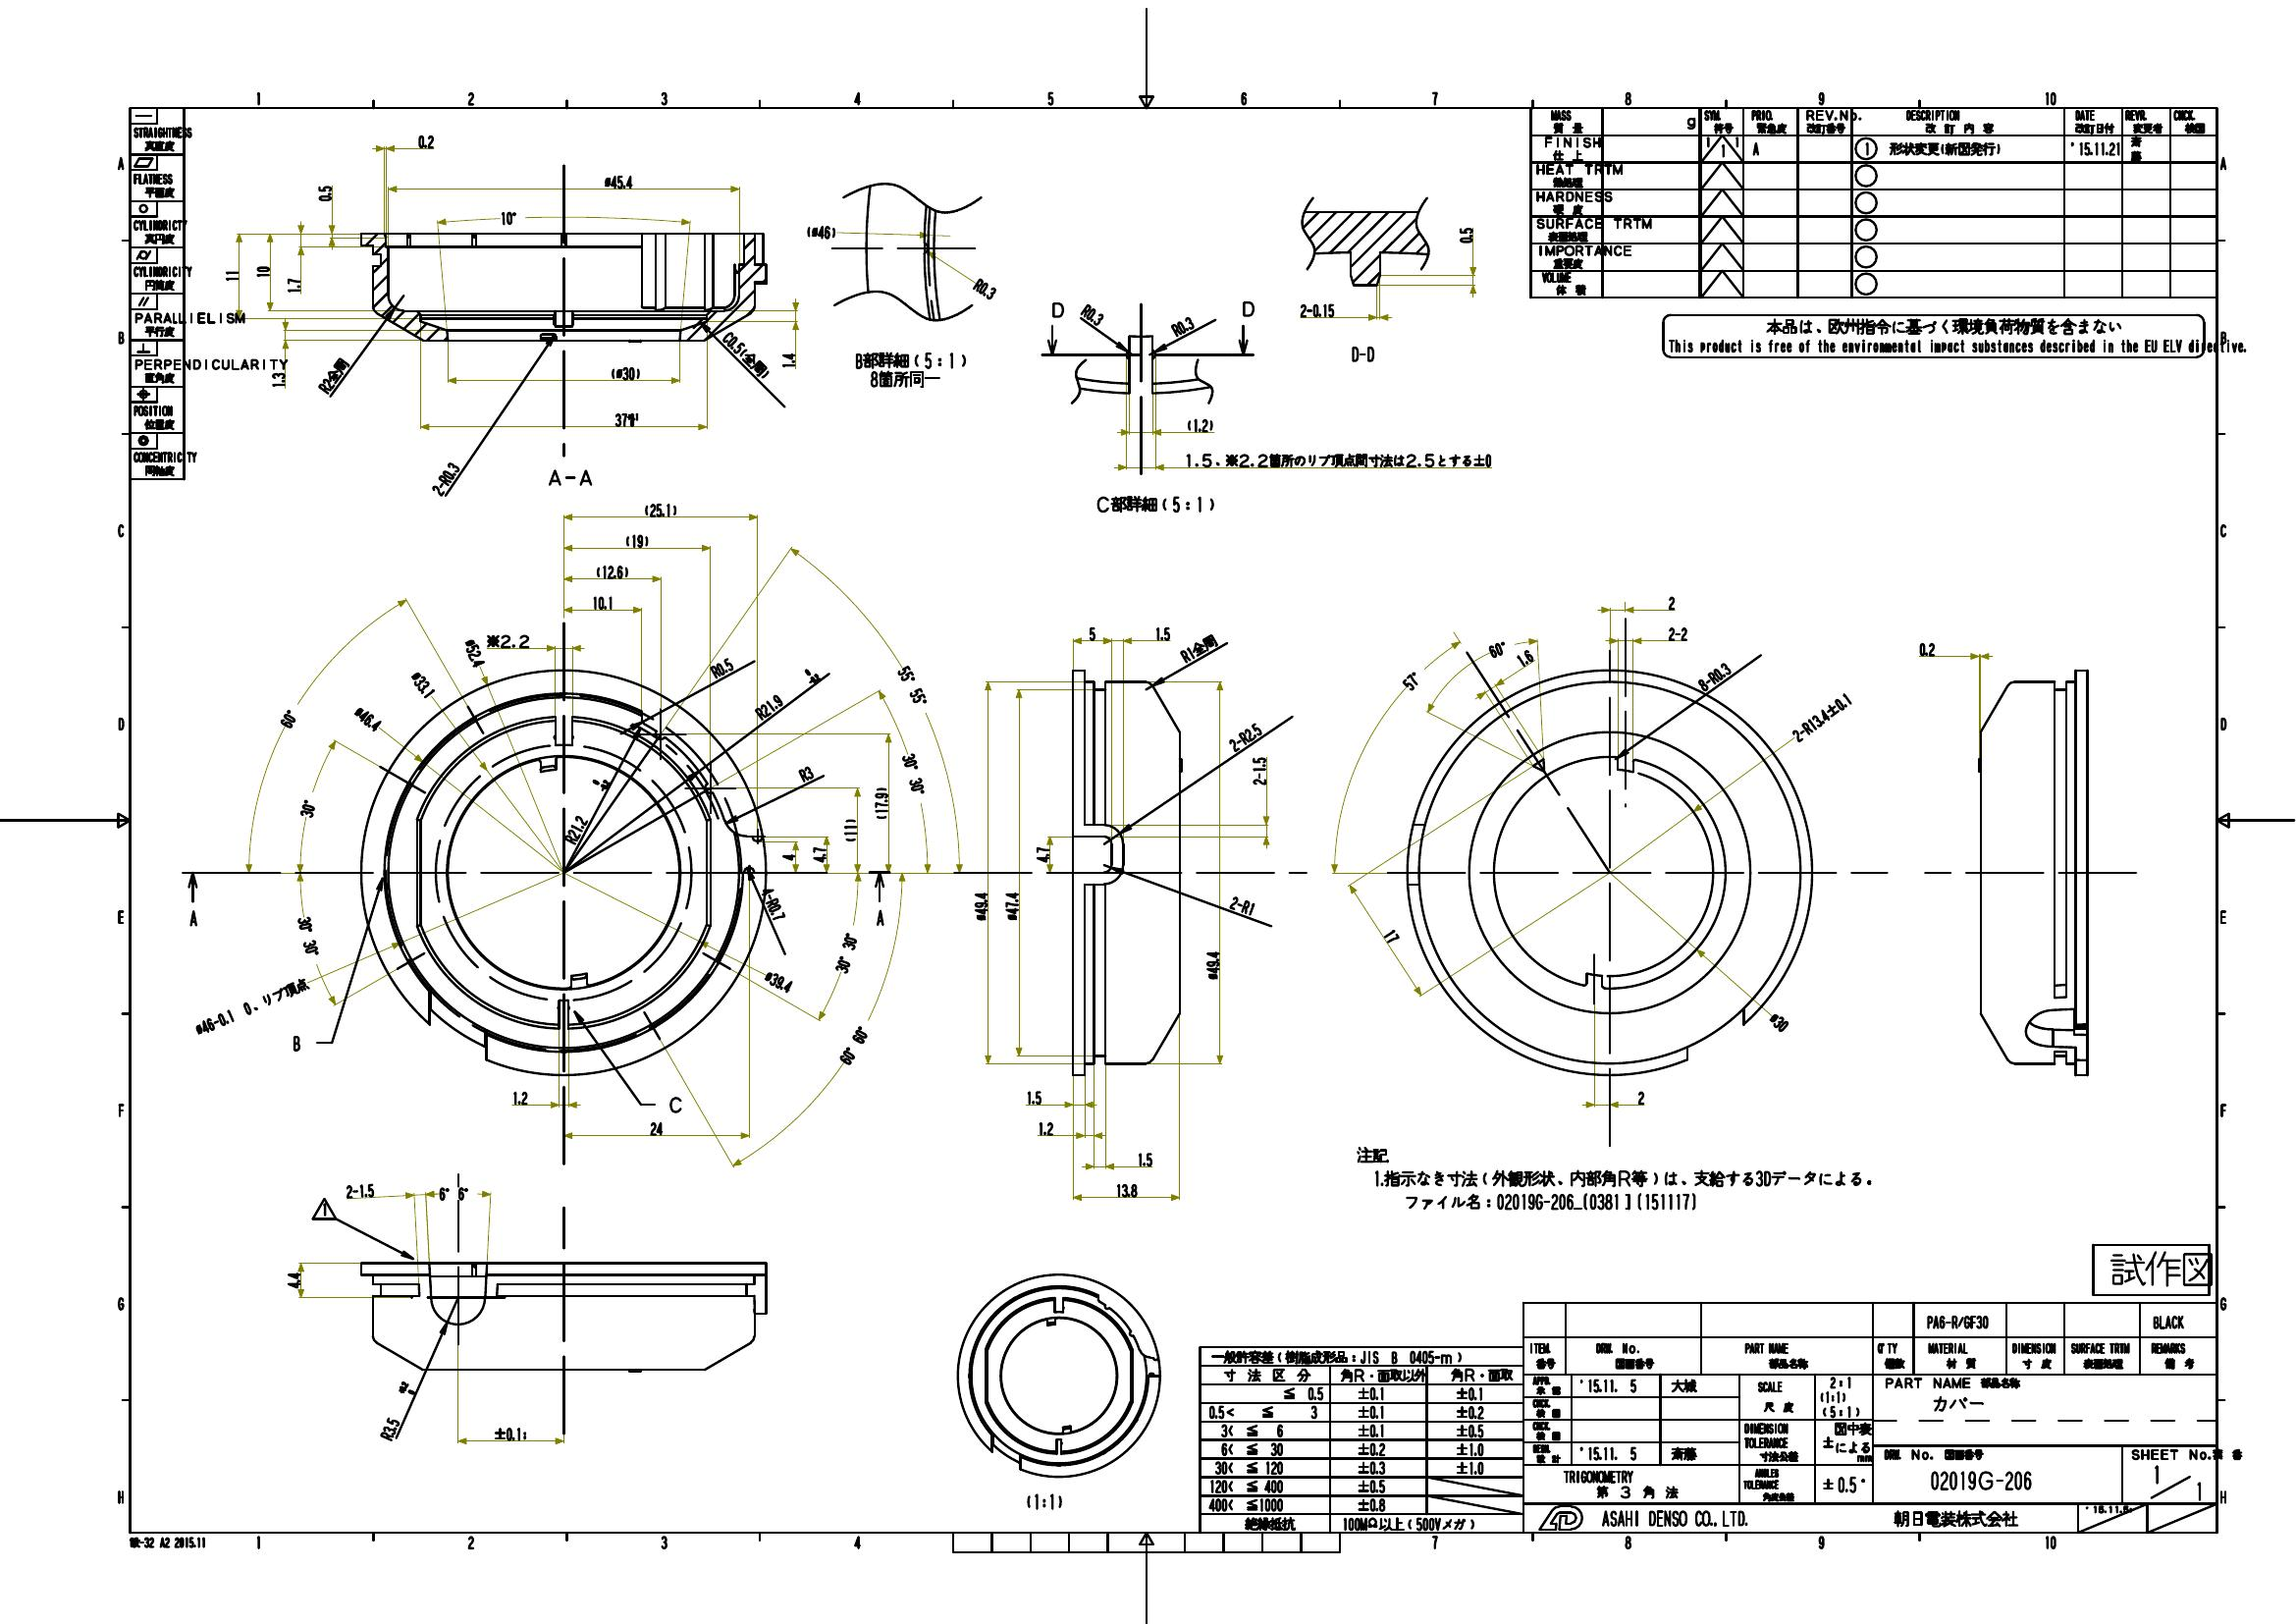anntotation_text: (1354, 1142, 1878, 1216), (1662, 315, 2205, 357), (2092, 1243, 2208, 1294), (854, 346, 971, 392), (1089, 490, 1221, 517), (1021, 1489, 1072, 1512), (541, 468, 601, 487), (128, 1534, 206, 1547), (262, 981, 311, 1000), (1346, 341, 1377, 360), (736, 355, 773, 371), (311, 1199, 337, 1220), (662, 1095, 687, 1114), (1047, 295, 1065, 322), (323, 362, 351, 378), (1238, 299, 1260, 320), (1191, 636, 1217, 652), (186, 909, 204, 928), (873, 909, 887, 932), (290, 1033, 302, 1049)
dimension_text: (1182, 448, 1493, 468), (748, 684, 826, 700), (1785, 710, 1860, 726), (193, 1011, 255, 1028), (388, 1380, 404, 1443), (903, 750, 922, 800), (905, 666, 922, 707), (840, 932, 856, 975), (834, 1037, 877, 1053), (483, 634, 529, 649), (871, 784, 887, 823), (1001, 889, 1019, 923), (1693, 668, 1734, 682), (1224, 731, 1265, 745), (300, 916, 314, 956), (596, 562, 631, 578), (645, 501, 680, 517), (344, 1183, 379, 1199), (766, 888, 782, 923), (1300, 302, 1339, 316), (805, 223, 838, 239), (351, 710, 383, 726), (971, 891, 987, 923), (764, 974, 796, 990), (492, 1427, 527, 1441), (1253, 754, 1267, 789), (427, 471, 466, 483), (604, 172, 634, 188), (1186, 417, 1214, 432), (610, 366, 641, 380), (437, 1186, 469, 1200), (1228, 898, 1256, 914), (1205, 949, 1219, 981), (624, 531, 648, 548), (1116, 1181, 1140, 1199), (708, 659, 734, 675), (841, 817, 857, 844), (1667, 622, 1688, 642), (283, 274, 300, 297), (1404, 668, 1421, 691), (466, 638, 480, 666), (415, 671, 429, 698), (1079, 308, 1105, 322), (613, 411, 639, 425), (973, 281, 996, 297), (1172, 320, 1196, 334), (720, 334, 745, 348), (1456, 225, 1474, 244), (253, 262, 271, 281), (1488, 638, 1505, 657), (509, 1088, 529, 1106), (1033, 844, 1049, 865), (499, 207, 516, 225), (1137, 1149, 1154, 1167), (221, 267, 241, 283), (415, 132, 434, 148), (1769, 1014, 1788, 1030), (1036, 1120, 1056, 1135), (796, 766, 815, 782), (590, 596, 615, 608), (1024, 1090, 1045, 1104), (299, 800, 316, 816), (316, 185, 332, 202), (1918, 642, 1936, 657), (1383, 928, 1400, 944), (1154, 626, 1172, 642), (646, 1120, 664, 1135), (782, 348, 796, 367), (318, 378, 332, 395), (271, 371, 285, 388), (1660, 596, 1678, 610), (1516, 650, 1534, 664), (812, 844, 826, 861), (286, 1271, 299, 1290), (281, 712, 297, 726), (1084, 626, 1098, 642), (1634, 1090, 1648, 1104), (782, 851, 794, 861)
object: (1407, 668, 1813, 1074), (362, 671, 766, 1074), (1978, 668, 2089, 1077), (1072, 670, 1180, 1076), (360, 1262, 766, 1371), (362, 232, 766, 341), (954, 1274, 1159, 1476), (831, 181, 982, 320), (1300, 197, 1430, 286), (1072, 336, 1214, 404)
title_block: (1200, 1301, 2219, 1533), (1532, 107, 2219, 299), (130, 107, 183, 480)
